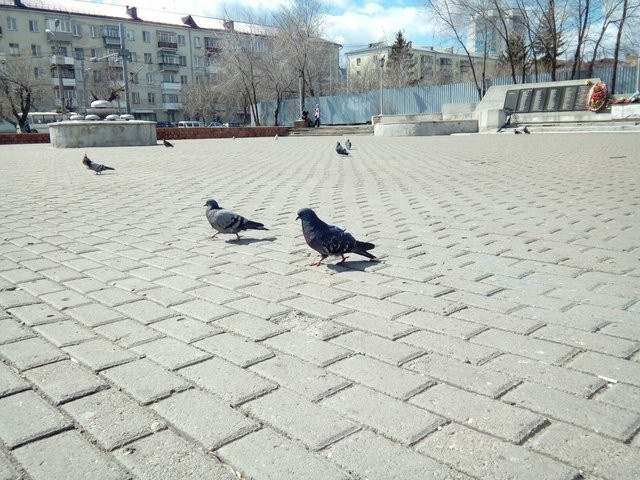Pigeon: (294, 202, 380, 270), (197, 196, 276, 248), (88, 161, 116, 175), (334, 142, 349, 157), (82, 154, 94, 168), (160, 139, 175, 149), (346, 139, 354, 150), (513, 128, 522, 135)
